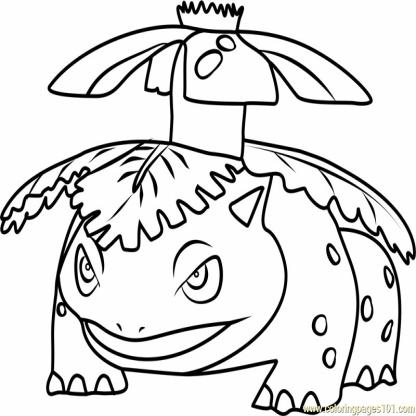Venusaur: (5, 1, 416, 416)
